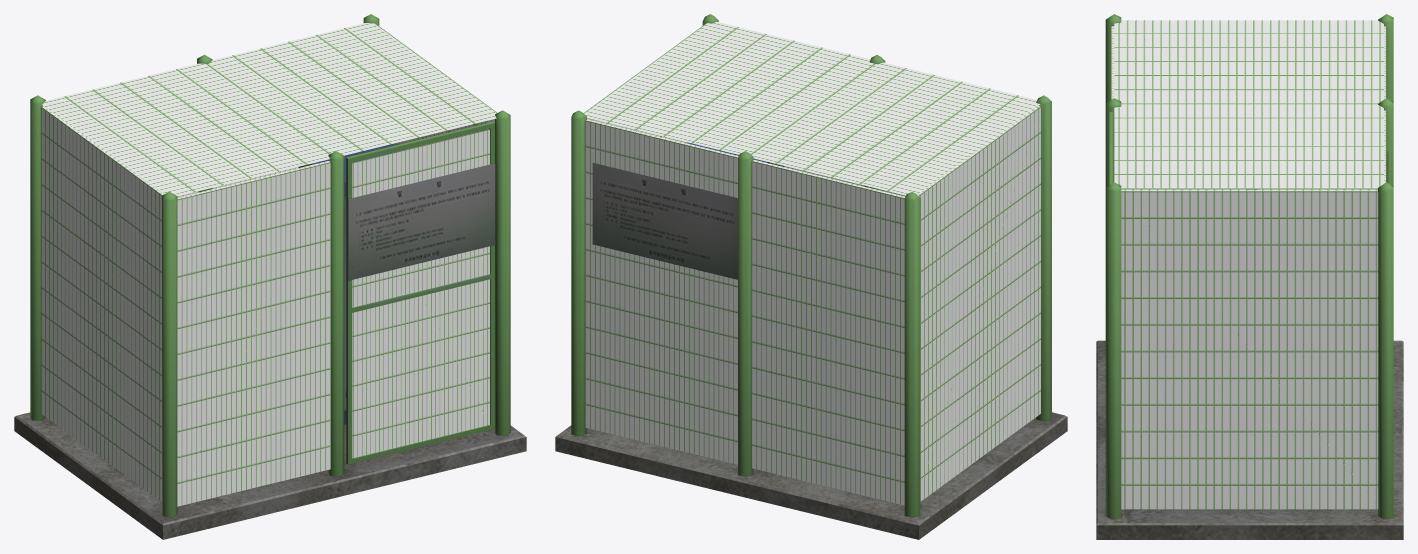
File: Earthquake.gltf
3 views of the same model, side by side, from view 1: azimuth 30°, elevation 25°; view 2: azimuth 150°, elevation 25°; view 3: azimuth 270°, elevation 25° (orthographic). The views are drawn at different scales.
Visible parts, largest first — view 1: Earthquake_A, Earthquake; view 2: Earthquake_A, Earthquake; view 3: Earthquake_A, Earthquake.
Boxes of the visible parts, left/top/right/bottom form: Earthquake_A: left=41, top=23, right=497, bottom=506; Earthquake: left=14, top=14, right=526, bottom=539; Earthquake_A: left=583, top=22, right=1040, bottom=505; Earthquake: left=555, top=14, right=1067, bottom=539; Earthquake_A: left=1111, top=20, right=1386, bottom=509; Earthquake: left=1096, top=14, right=1403, bottom=539.
Bounding box in the file's own units: 24 × 21.35 × 17.
2 materials, 2 textured.
